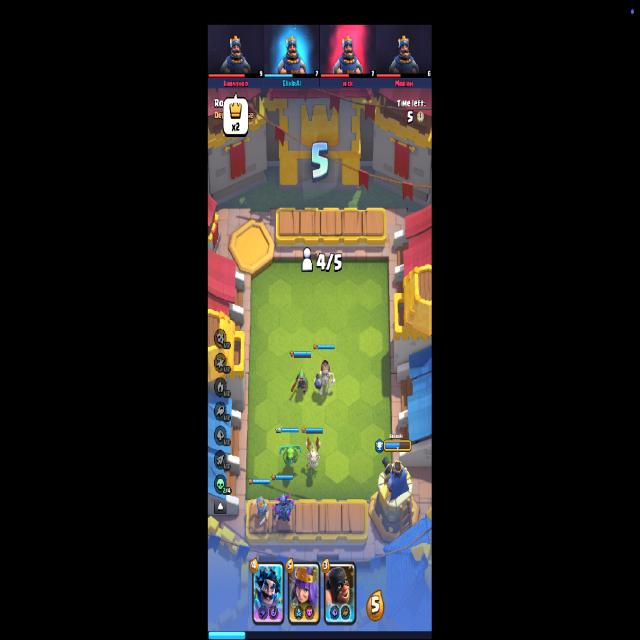baby_dragon: (280, 443, 302, 468)
bandit: (292, 368, 309, 401)
card_archer_queen: (288, 560, 320, 626)
card_e_wiz: (252, 560, 284, 628)
card_executioner: (324, 562, 355, 628)
giant_skeleton: (314, 360, 338, 398)
knight: (252, 496, 268, 526)
pekka: (272, 494, 296, 526)
skeleton_dragon: (305, 436, 320, 471)
